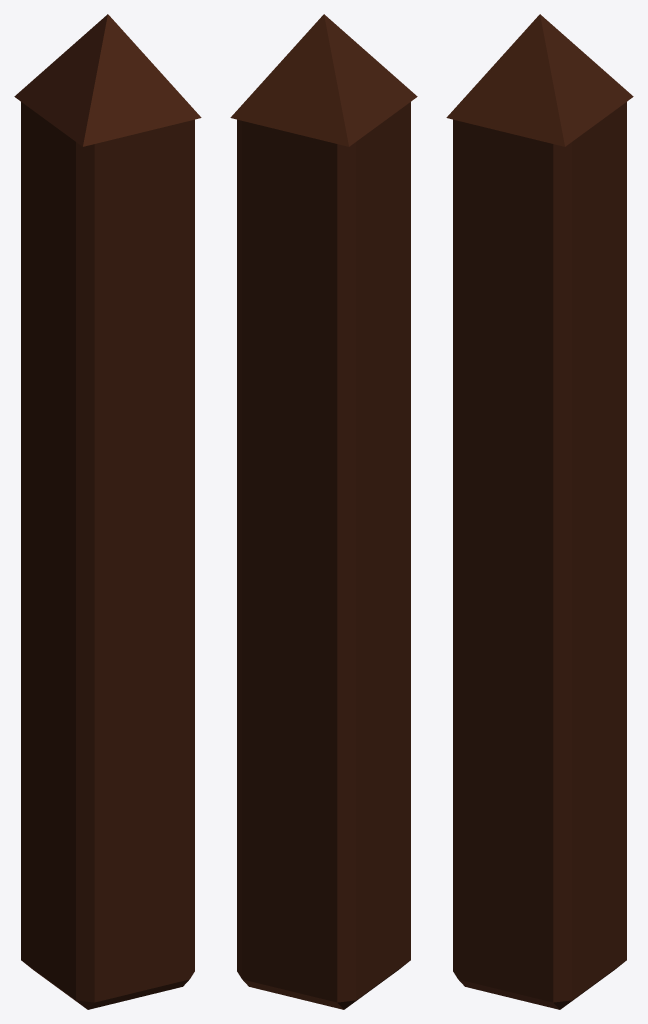
Rendered from D01_Fence_Post.fbx.
The picture shows the model from 3 angles, left to right: view 1: azimuth 30°, elevation 25°; view 2: azimuth 150°, elevation 25°; view 3: azimuth 330°, elevation 25°; orthographic projection.
Visible parts, largest first — view 1: D01_Fence_Post; view 2: D01_Fence_Post; view 3: D01_Fence_Post.
Boxes of the visible parts, x1,y1,x2,y2 form: D01_Fence_Post: (14, 14, 201, 1009); D01_Fence_Post: (230, 14, 417, 1009); D01_Fence_Post: (446, 14, 633, 1009).
Size of the model in its own units: 0.2 by 1.55 by 0.2.
1 material, 1 textured.
